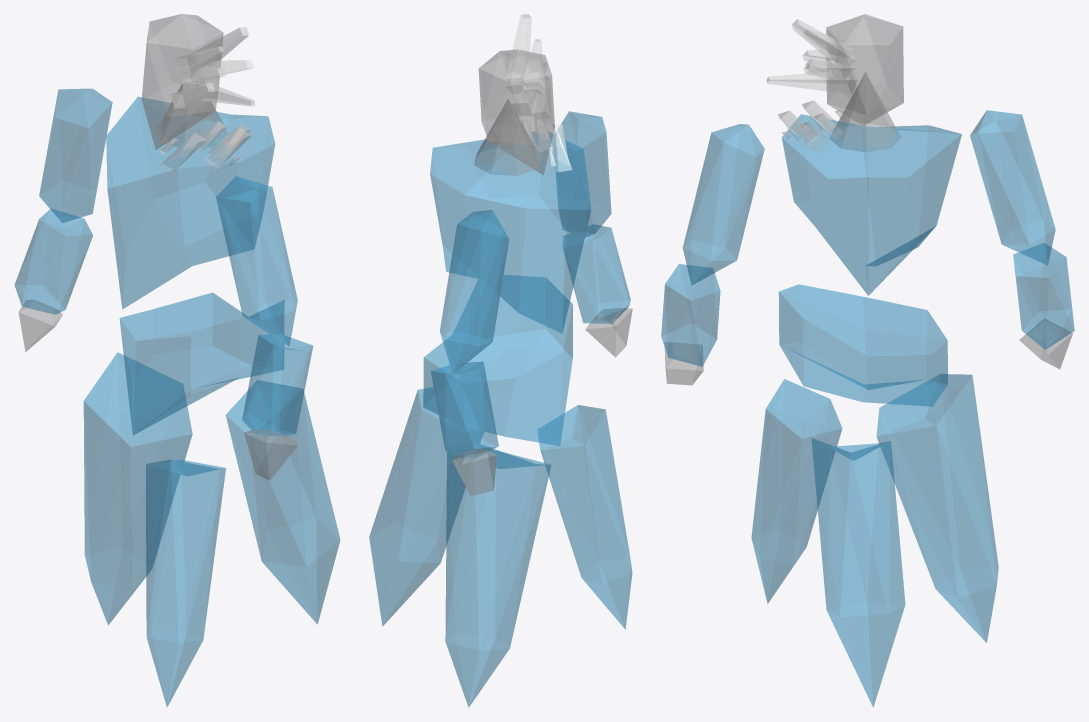
File: ghostIdle36.obj
3 views of the same model, side by side, from view 1: azimuth 30°, elevation 25°; view 2: azimuth 150°, elevation 25°; view 3: azimuth 270°, elevation 25° (orthographic). The views are drawn at different scales.
Parts seen in each view (by area): view 1: Cube.001_Cube.001, Icosphere.005, Icosphere.004, Cube_Cube.002, Icosphere.003, Icosphere.005_Icosphere.001, Icosphere.003_Icosphere.001, Icosphere.007_Icosphere.001, Icosphere.006_Icosphere.001, Icosphere.008_Icosphere.001, Cone_Cone.002, Cube.002_Cube.001 (+8 smaller); view 2: Cube.001_Cube.001, Cube_Cube.002, Icosphere.005, Icosphere.004, Icosphere.003, Icosphere.007_Icosphere.001, Icosphere.003_Icosphere.001, Icosphere.005_Icosphere.001, Icosphere.008_Icosphere.001, Icosphere.006_Icosphere.001, Cone_Cone.002, Cube.003_Cube.001 (+6 smaller); view 3: Cube.001_Cube.001, Icosphere.005, Icosphere.004, Cube_Cube.002, Icosphere.003, Icosphere.005_Icosphere.001, Icosphere.007_Icosphere.001, Icosphere.003_Icosphere.001, Icosphere.006_Icosphere.001, Icosphere.008_Icosphere.001, Cone_Cone.002, Cube.003_Cube.001 (+4 smaller).
Boxes of the visible parts, <box> form: Cube.001_Cube.001: <box>106,96,275,309</box>; Icosphere.005: <box>83,352,192,624</box>; Icosphere.004: <box>226,380,340,624</box>; Cube_Cube.002: <box>119,292,284,434</box>; Icosphere.003: <box>146,459,225,706</box>; Icosphere.005_Icosphere.001: <box>216,176,297,346</box>; Icosphere.003_Icosphere.001: <box>141,14,223,149</box>; Icosphere.007_Icosphere.001: <box>39,88,112,222</box>; Icosphere.006_Icosphere.001: <box>242,334,312,437</box>; Icosphere.008_Icosphere.001: <box>14,209,92,314</box>; Cone_Cone.002: <box>157,84,227,147</box>; Cube.002_Cube.001: <box>244,429,297,480</box>; Cube.001_Cube.001: <box>430,132,591,333</box>; Cube_Cube.002: <box>423,275,572,446</box>; Icosphere.005: <box>445,442,551,707</box>; Icosphere.004: <box>369,387,483,626</box>; Icosphere.003: <box>538,405,632,629</box>; Icosphere.007_Icosphere.001: <box>440,210,509,373</box>; Icosphere.003_Icosphere.001: <box>478,49,554,174</box>; Icosphere.005_Icosphere.001: <box>555,111,611,237</box>; Icosphere.008_Icosphere.001: <box>430,361,498,461</box>; Icosphere.006_Icosphere.001: <box>563,224,630,323</box>; Cone_Cone.002: <box>474,99,538,175</box>; Cube.003_Cube.001: <box>452,448,496,496</box>; Cube.001_Cube.001: <box>782,114,961,295</box>; Icosphere.005: <box>876,374,998,642</box>; Icosphere.004: <box>811,438,905,707</box>; Cube_Cube.002: <box>778,284,947,406</box>; Icosphere.003: <box>751,379,842,603</box>; Icosphere.005_Icosphere.001: <box>683,124,764,285</box>; Icosphere.007_Icosphere.001: <box>970,110,1055,265</box>; Icosphere.003_Icosphere.001: <box>826,14,903,125</box>; Icosphere.006_Icosphere.001: <box>661,264,720,366</box>; Icosphere.008_Icosphere.001: <box>1013,243,1074,349</box>; Cone_Cone.002: <box>829,72,900,152</box>; Cube.003_Cube.001: <box>1019,318,1072,369</box>.
Bounding box in the file's own units: 17.01 × 47.68 × 27.9.
